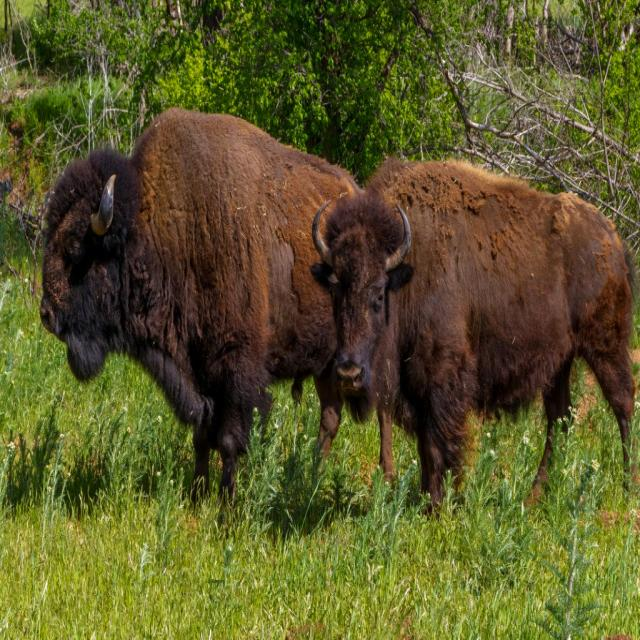bison: (39, 109, 359, 499), (311, 162, 634, 504)
